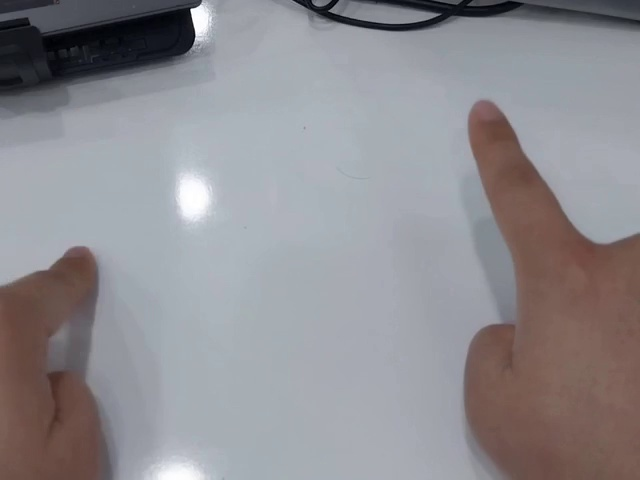fingers: (466, 99, 519, 154), (51, 245, 99, 303)
